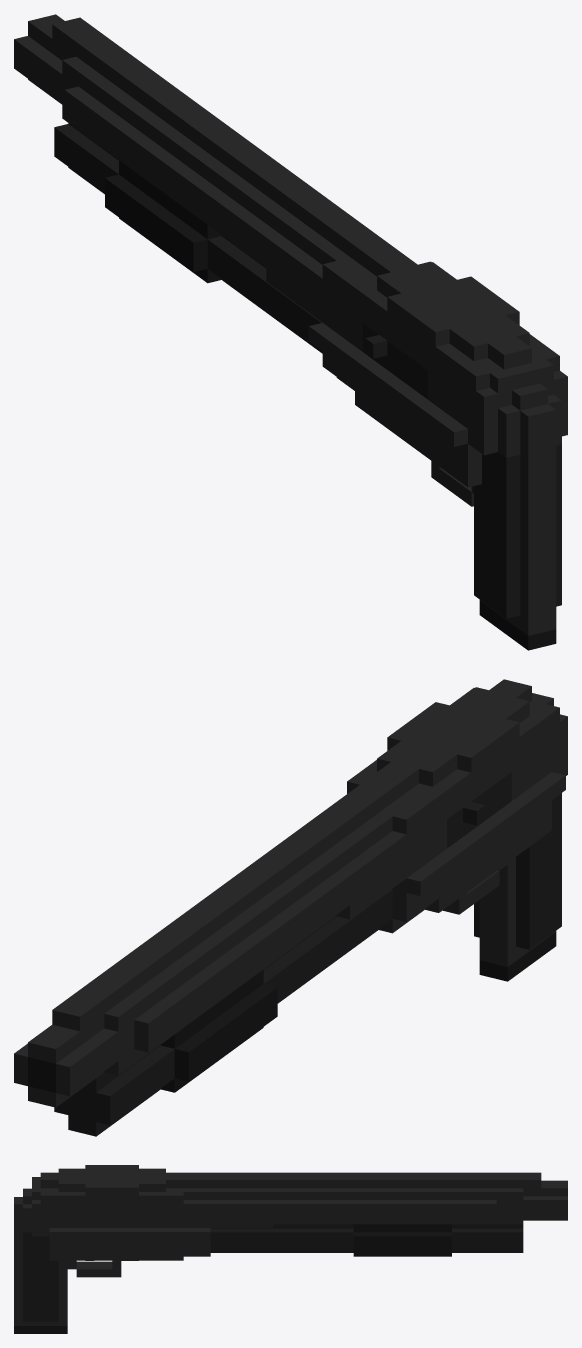
File: ShotGun.obj
3 views of the same model, one above another, from view 1: azimuth 30°, elevation 25°; view 2: azimuth 150°, elevation 25°; view 3: azimuth 270°, elevation 25° (orthographic). The views are drawn at different scales.
Size of the model in its own units: 0.8 by 1.9 by 6.2.
1 material, 1 textured.
